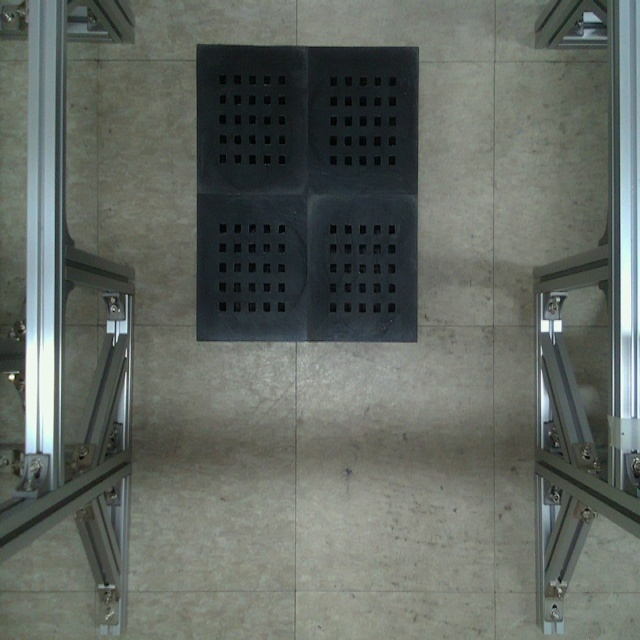pallet: (188, 42, 425, 347)
